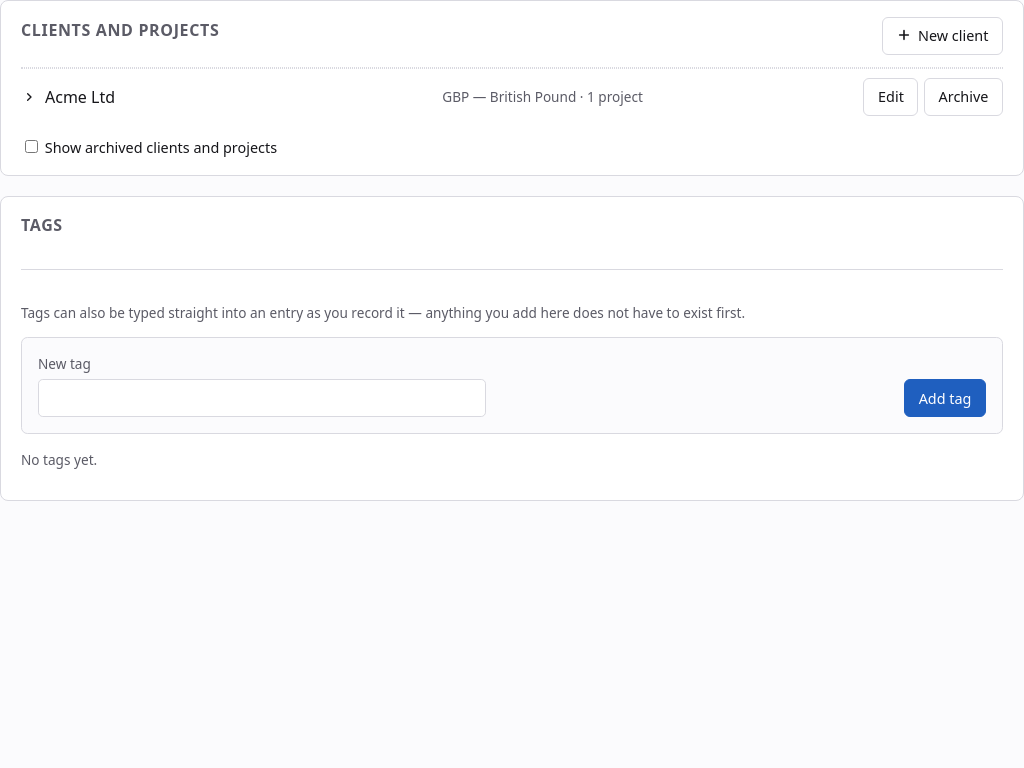
Test: no delete, only archive (0005 X1–X3) › offers no Delete on a project row
This screenshot has width=1024, height=768.
Click the button with class "taxonomy-group-toggle" at [80, 97], box [21,77,430,117]
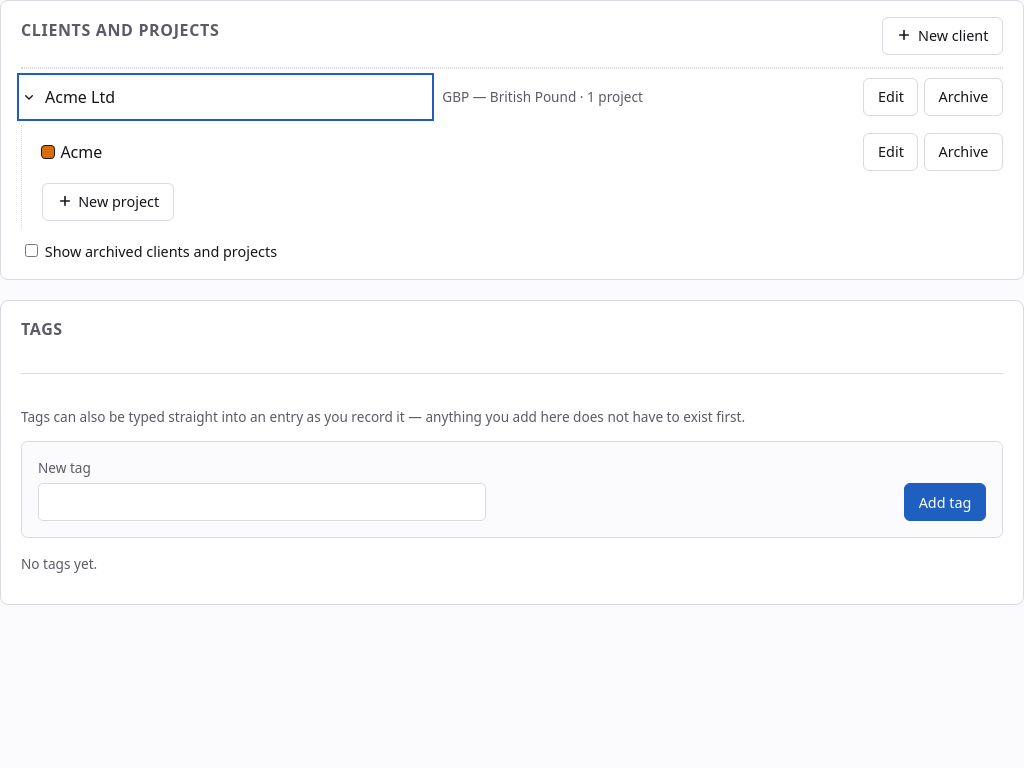
Check: the 2nd button "Archive" is shown, box [924,133,1003,171]
